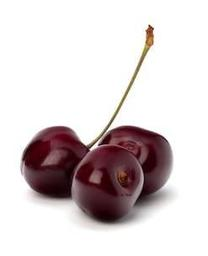cherry: (18, 125, 99, 198), (72, 145, 145, 223), (97, 126, 173, 199)
